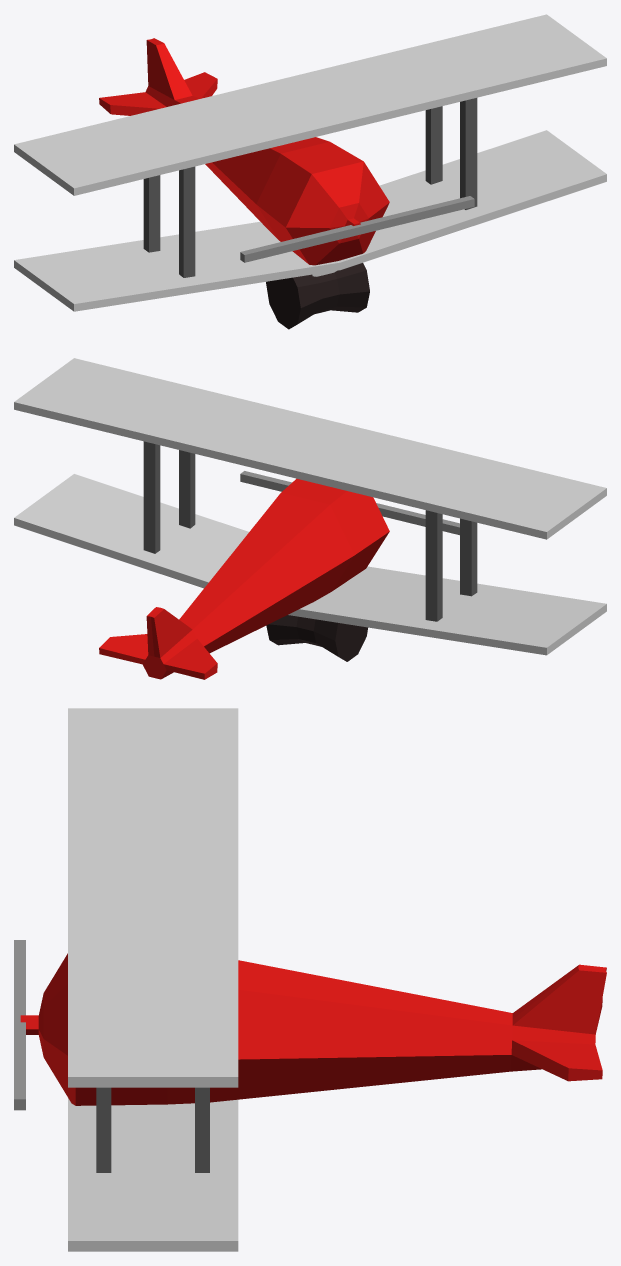
3 renders of one model, top to bottom at view 1: azimuth 30°, elevation 25°; view 2: azimuth 150°, elevation 25°; view 3: azimuth 270°, elevation 25°, orthographic. The views are drawn at different scales.
Visible parts, largest first — view 1: Plane, Propeller; view 2: Plane, Propeller; view 3: Plane, Propeller.
Part boxes in pixels (box(x1,y1,x2,y2)): Plane: box(14, 14, 606, 329); Propeller: box(240, 196, 474, 262); Plane: box(14, 358, 606, 679); Propeller: box(240, 471, 459, 535); Plane: box(20, 708, 606, 1251); Propeller: box(14, 940, 25, 1110).
Bounding box in the file's own units: 1023 × 386 × 696.
